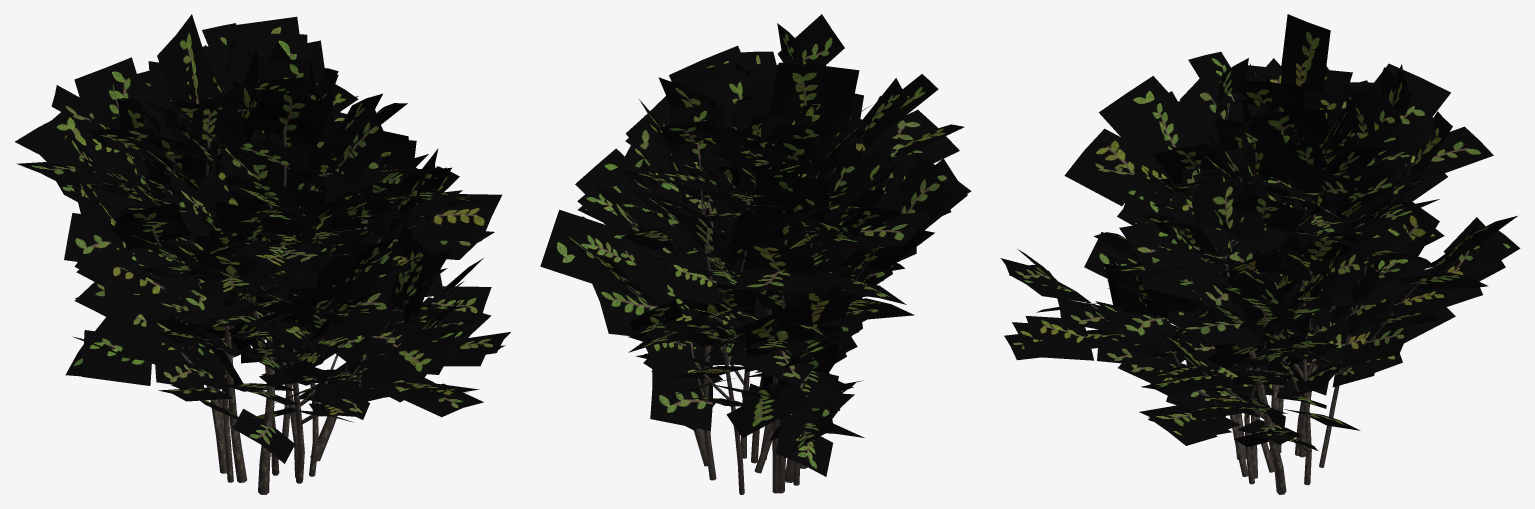
File: trnka_3.glb
3 renders of one model, left to right at view 1: azimuth 30°, elevation 25°; view 2: azimuth 150°, elevation 25°; view 3: azimuth 270°, elevation 25°, orthographic. The views are drawn at different scales.
Parts seen in each view (by area): view 1: trnka_3; view 2: trnka_3; view 3: trnka_3.
Part boxes in pixels (box(x1,y1,x2,y2)): trnka_3: box(15, 14, 510, 494); trnka_3: box(540, 14, 971, 494); trnka_3: box(1000, 14, 1520, 494).
Bounding box in the file's own units: 2.74 × 2.99 × 3.36.
2 materials, 2 textured.
